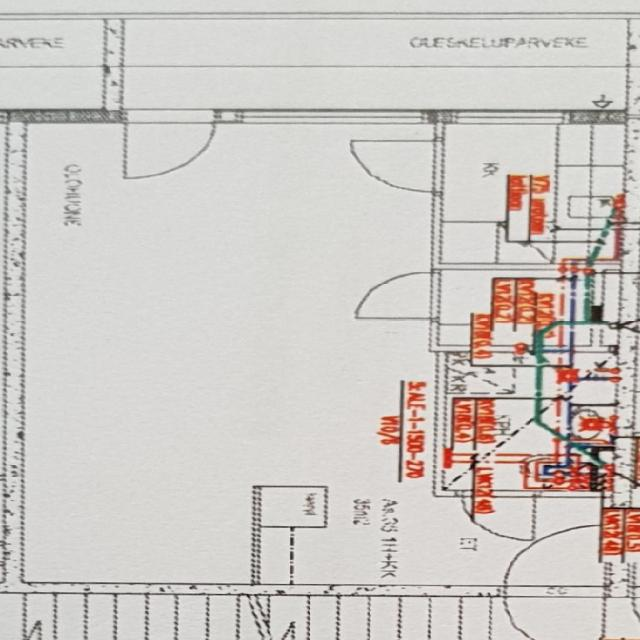door: (503, 523, 606, 600), (125, 109, 214, 178), (345, 140, 440, 192), (354, 272, 440, 318), (462, 492, 538, 543)
